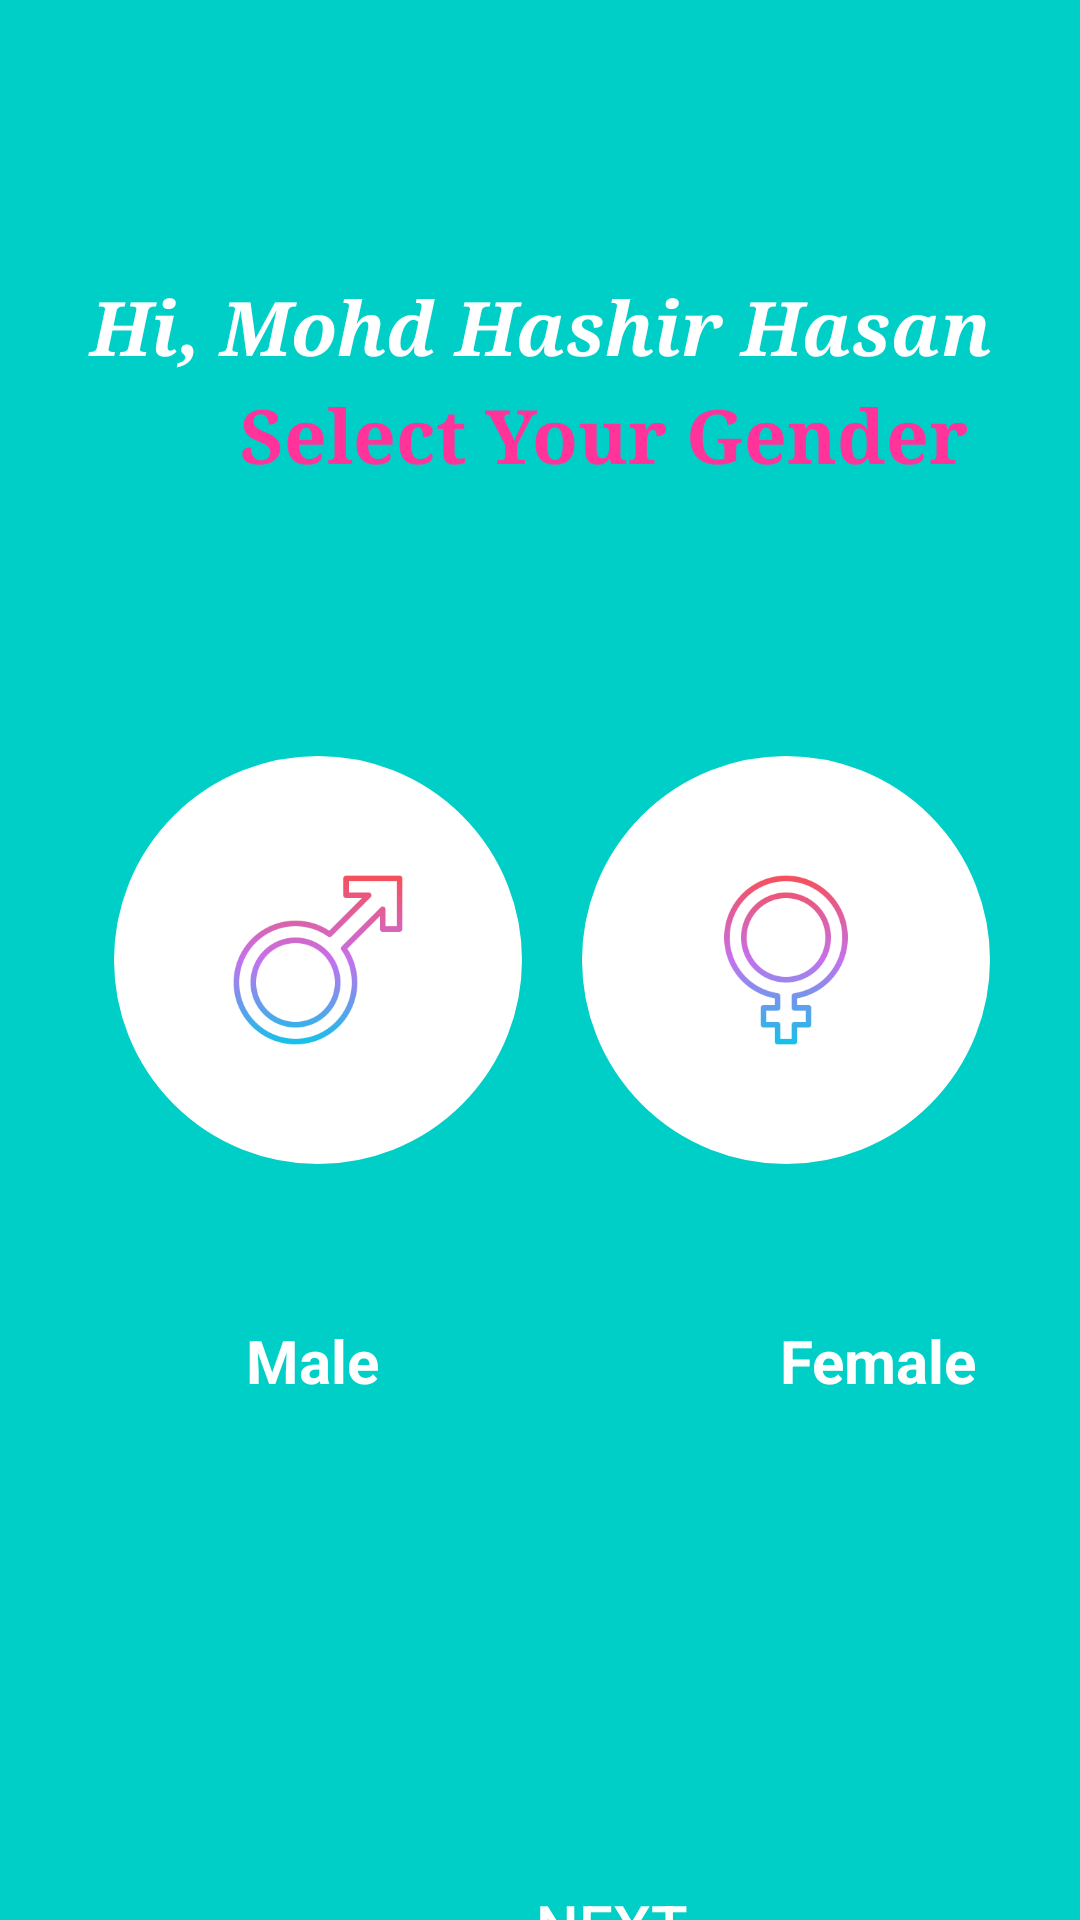

Screen size 1080*1920. Icon name, then its box in pixels as (x1, y1, x2, y2):
femalecolorless: (724, 875, 848, 1045)
malecolorless: (233, 875, 403, 1045)
